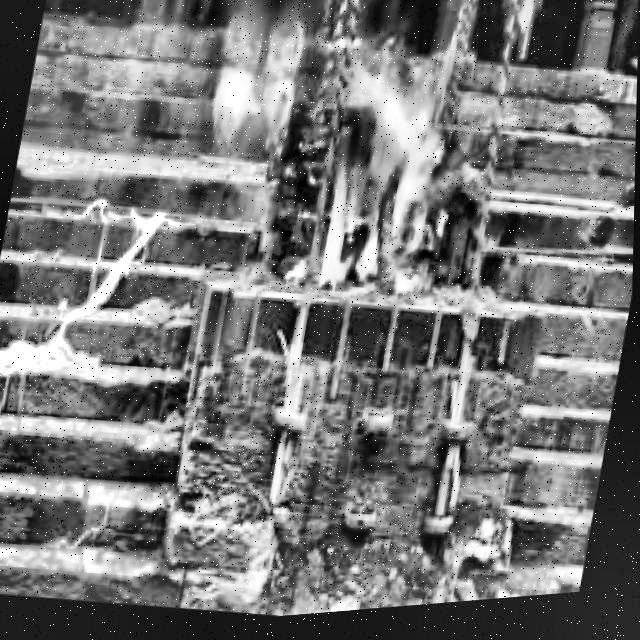Fire: (311, 69, 455, 302)
